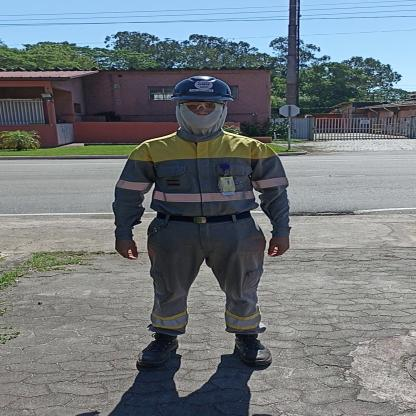Balaclava: (174, 99, 228, 136)
Capacete: (172, 74, 233, 99)
